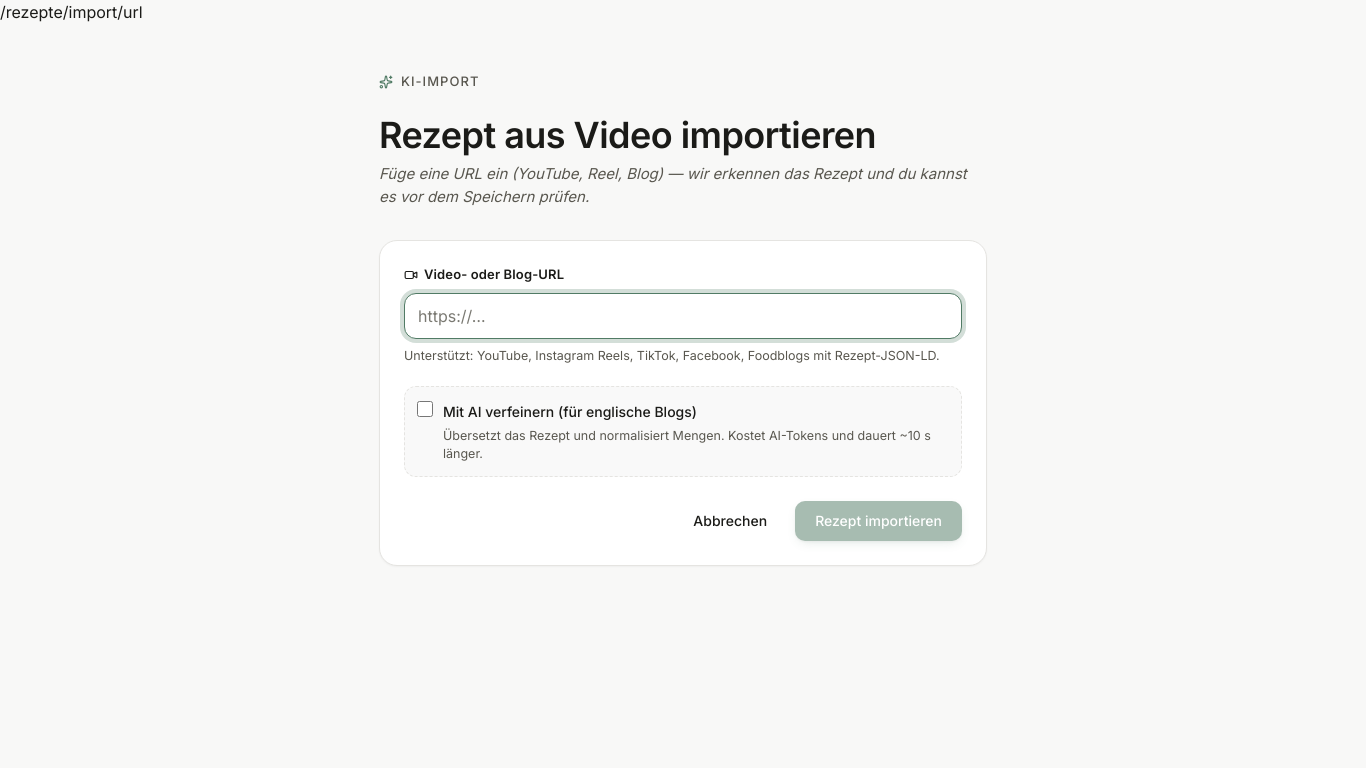
Scenario: <ImportUrlPage /> › with 0 groups: offers CreateGroupDialog and does NOT POST
In the field labelled "Video- oder Blog-URL": (683, 316) [404, 293, 962, 339], type "https://example.com/r"
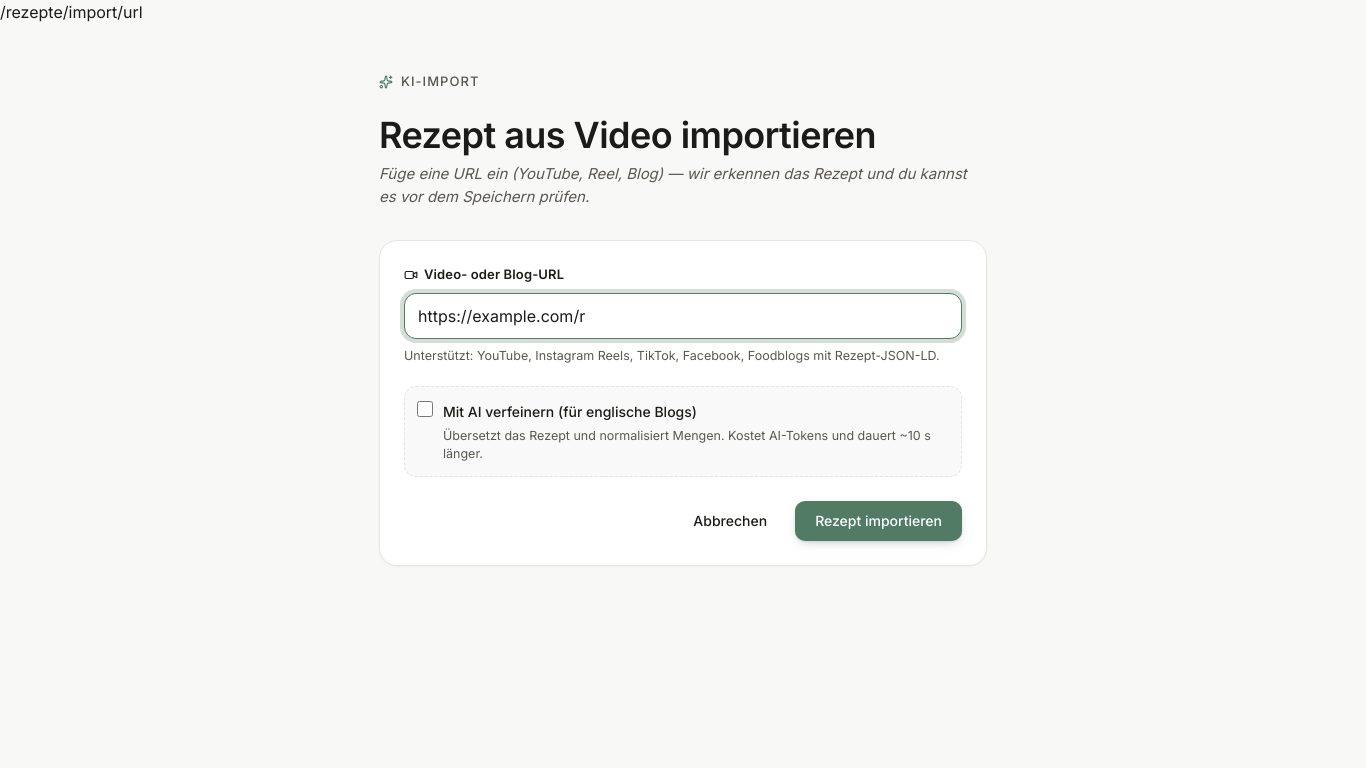
Click the button "Rezept importieren": (879, 521) [795, 501, 962, 541]
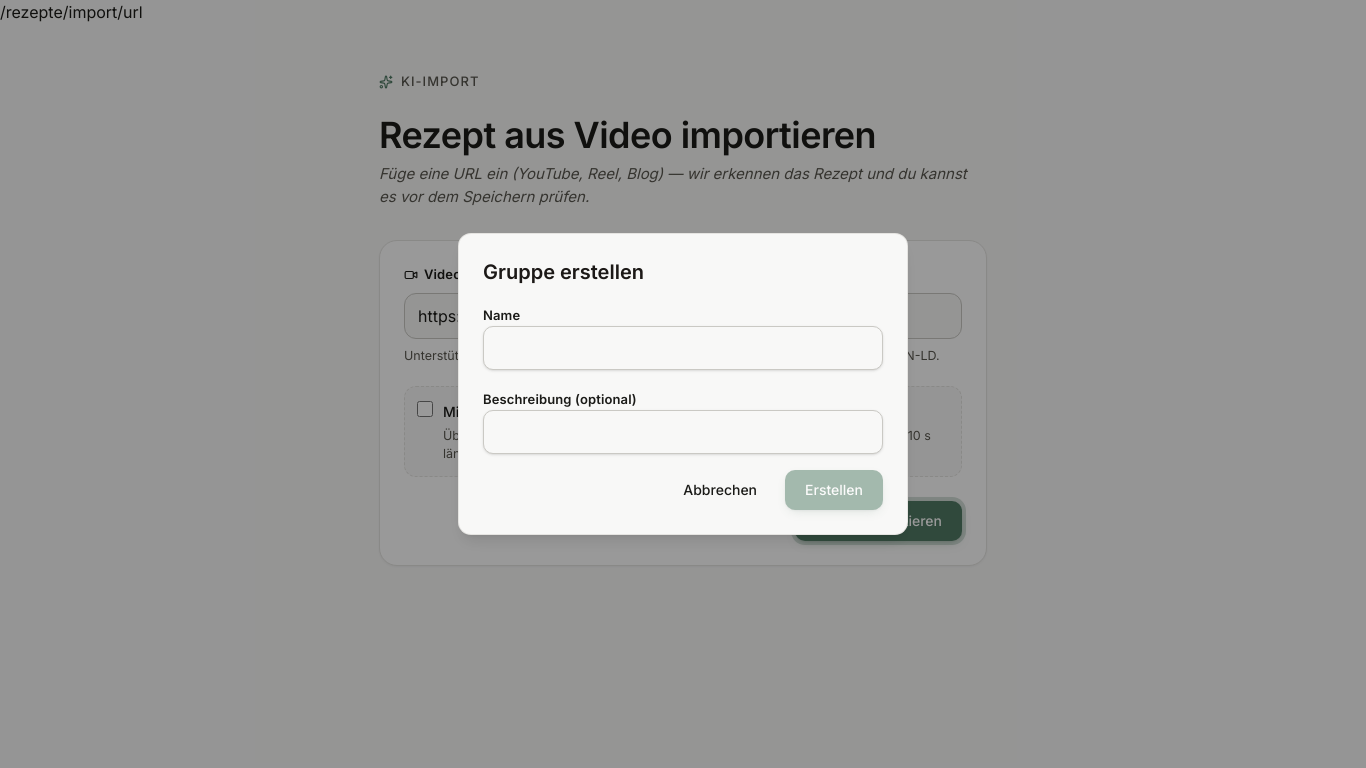
Expected: the heading "Gruppe erstellen" is shown, [483, 260, 644, 284]
